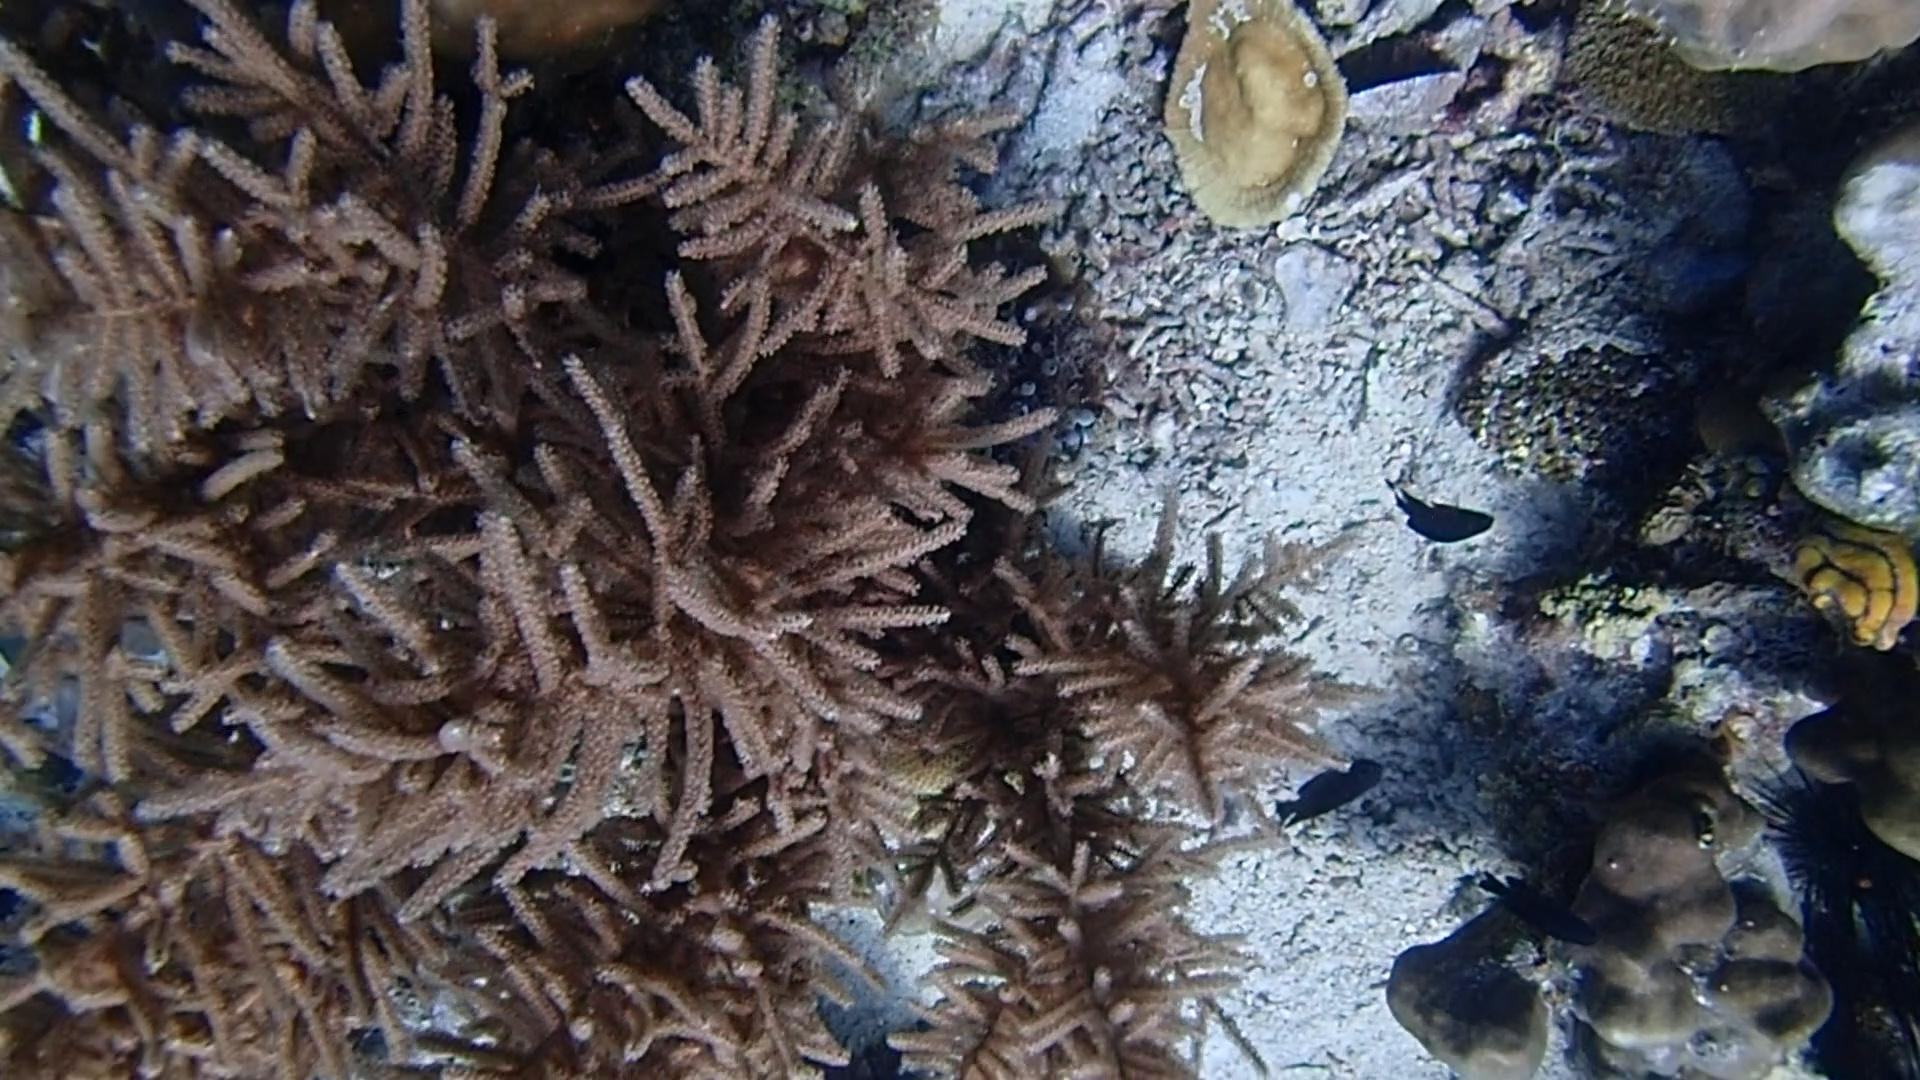Dark Fish: (1266, 746, 1389, 851), (1474, 857, 1600, 956), (1381, 479, 1498, 555)
